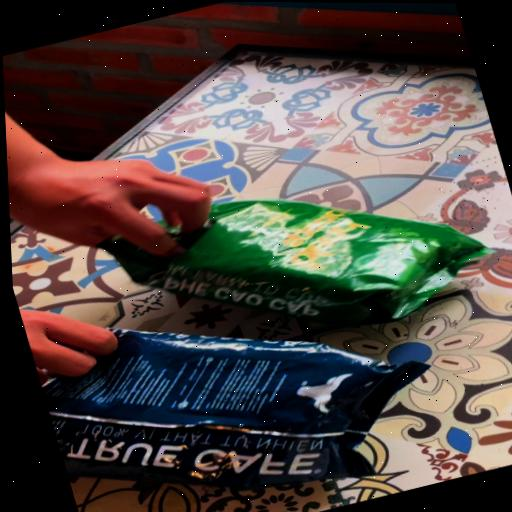cafe_hat: (42, 329, 429, 491)
cafe_xay: (100, 199, 489, 326)
